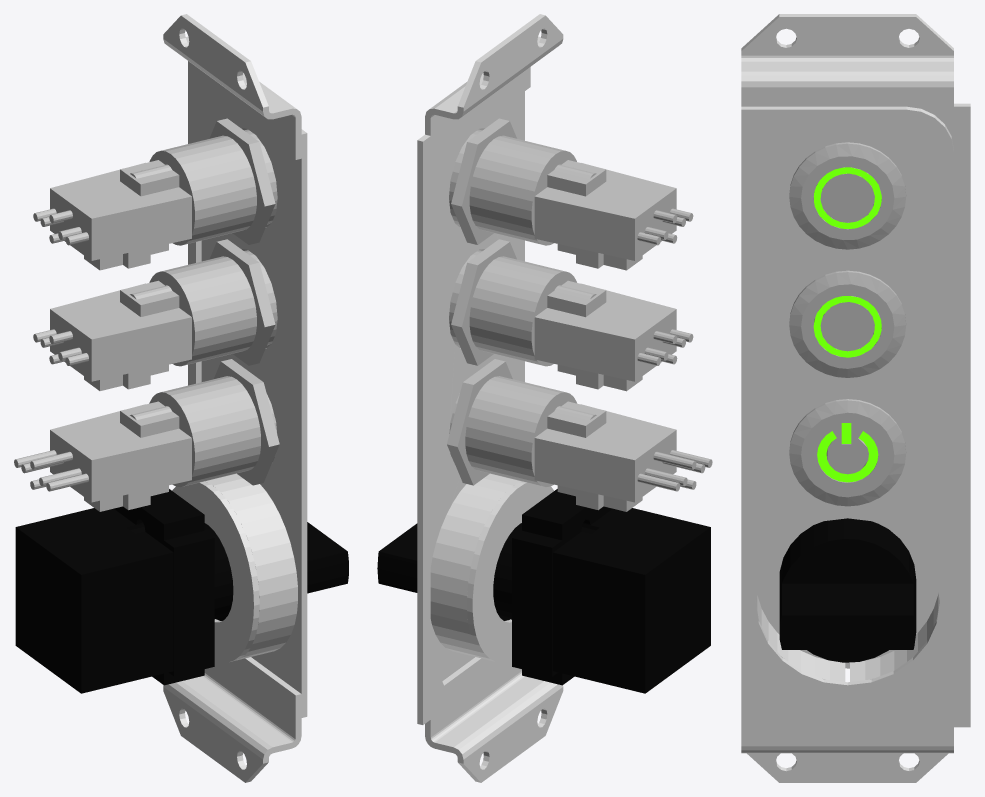
File: panel.glb
3 views of the same model, side by side, from view 1: azimuth 30°, elevation 25°; view 2: azimuth 150°, elevation 25°; view 3: azimuth 270°, elevation 25° (orthographic). The views are drawn at different scales.
Visible parts, largest first — view 1: fixed_base_link.135; view 2: fixed_base_link.135; view 3: fixed_base_link.135.
Boxes of the visible parts, x1,y1,x2,y2 form: fixed_base_link.135: [14, 14, 348, 782]; fixed_base_link.135: [377, 14, 712, 782]; fixed_base_link.135: [741, 14, 970, 782].
Size of the model in its own units: 0.074 by 0.179 by 0.0485.
